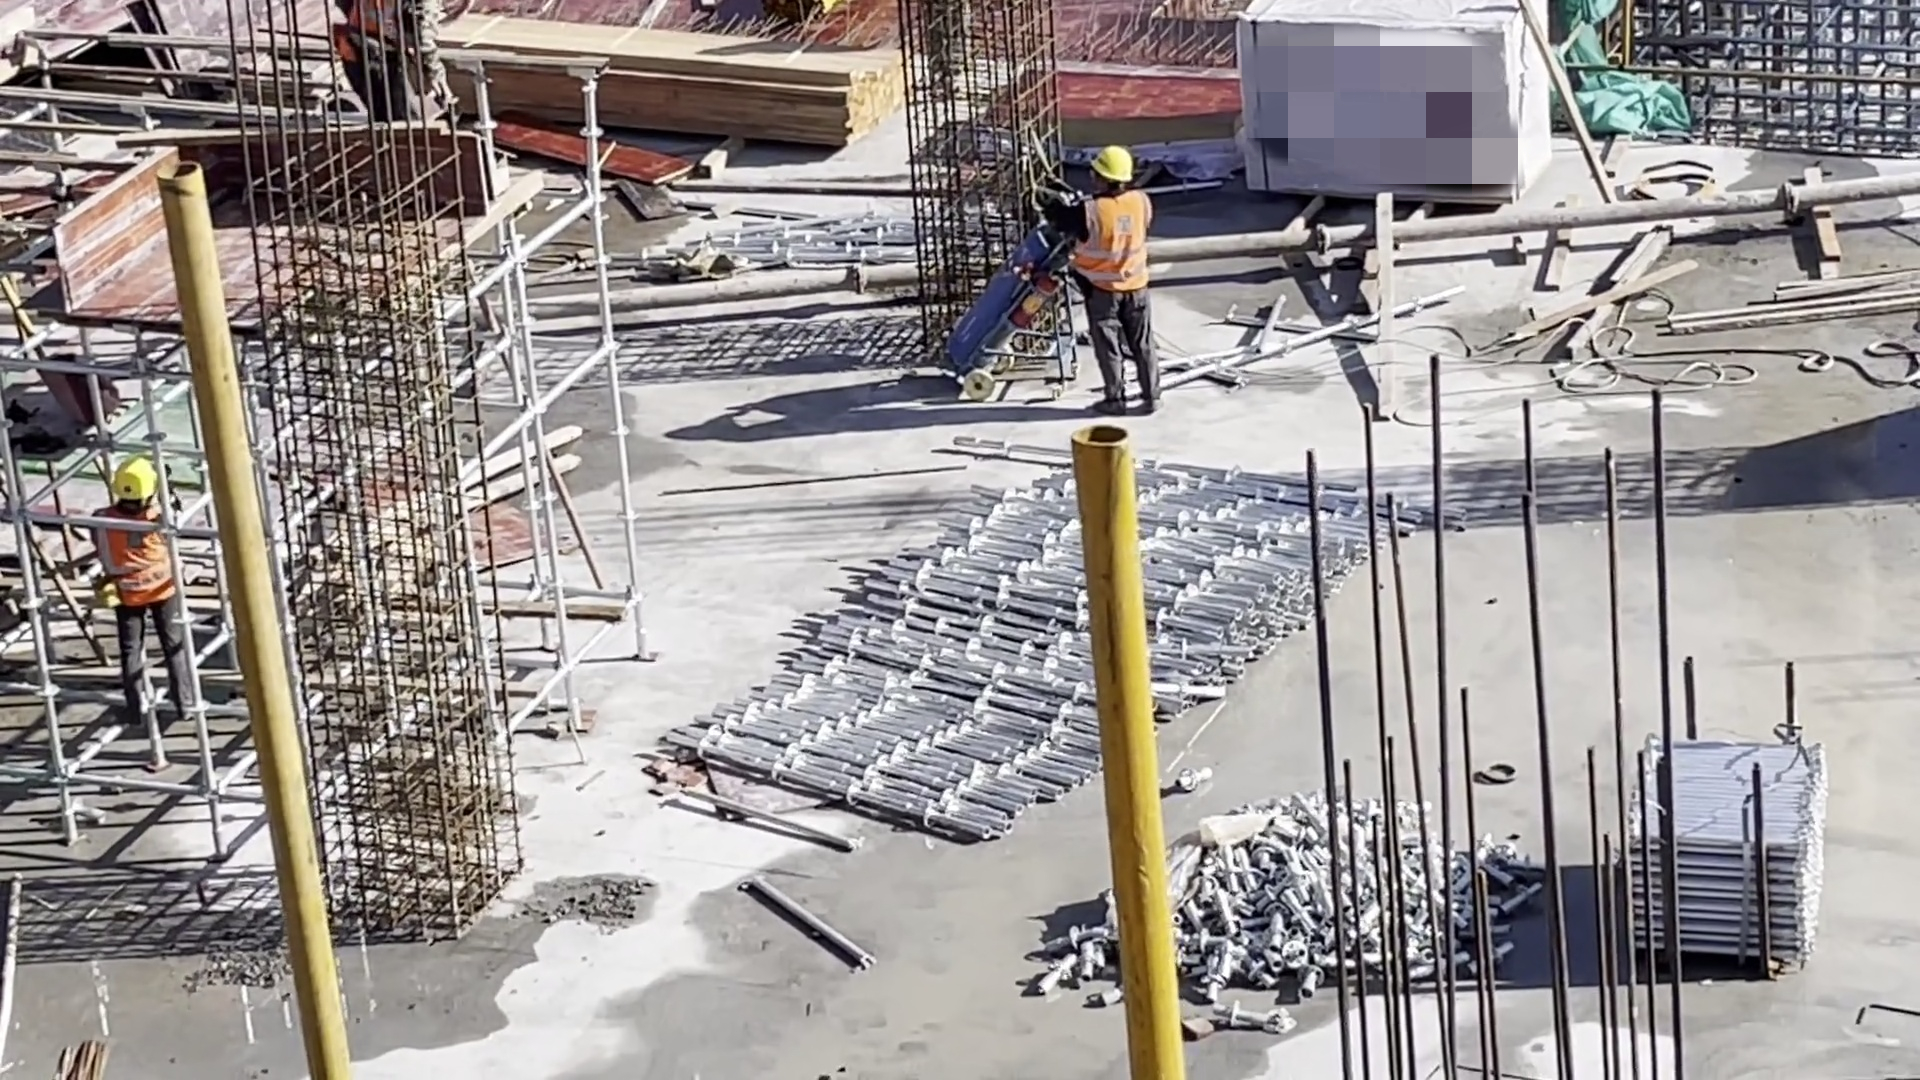helmet: (1087, 142, 1135, 187), (111, 460, 159, 498)
person: (91, 460, 215, 730), (1045, 141, 1163, 409), (330, 1, 456, 120)
scaffold: (655, 435, 1458, 849), (1624, 735, 1833, 971)
vest: (96, 505, 184, 605), (1072, 188, 1152, 290), (337, 6, 402, 82)
wood: (439, 9, 903, 147)
